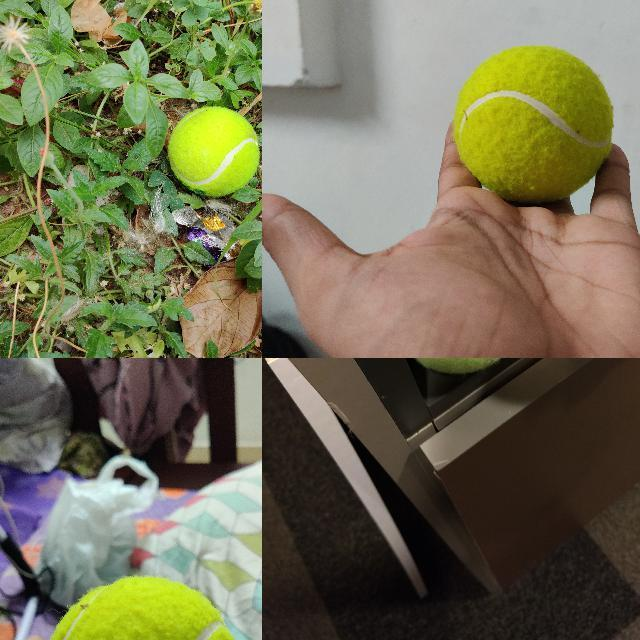tennis-ball: (453, 45, 613, 203), (42, 574, 242, 639), (168, 107, 259, 196)
